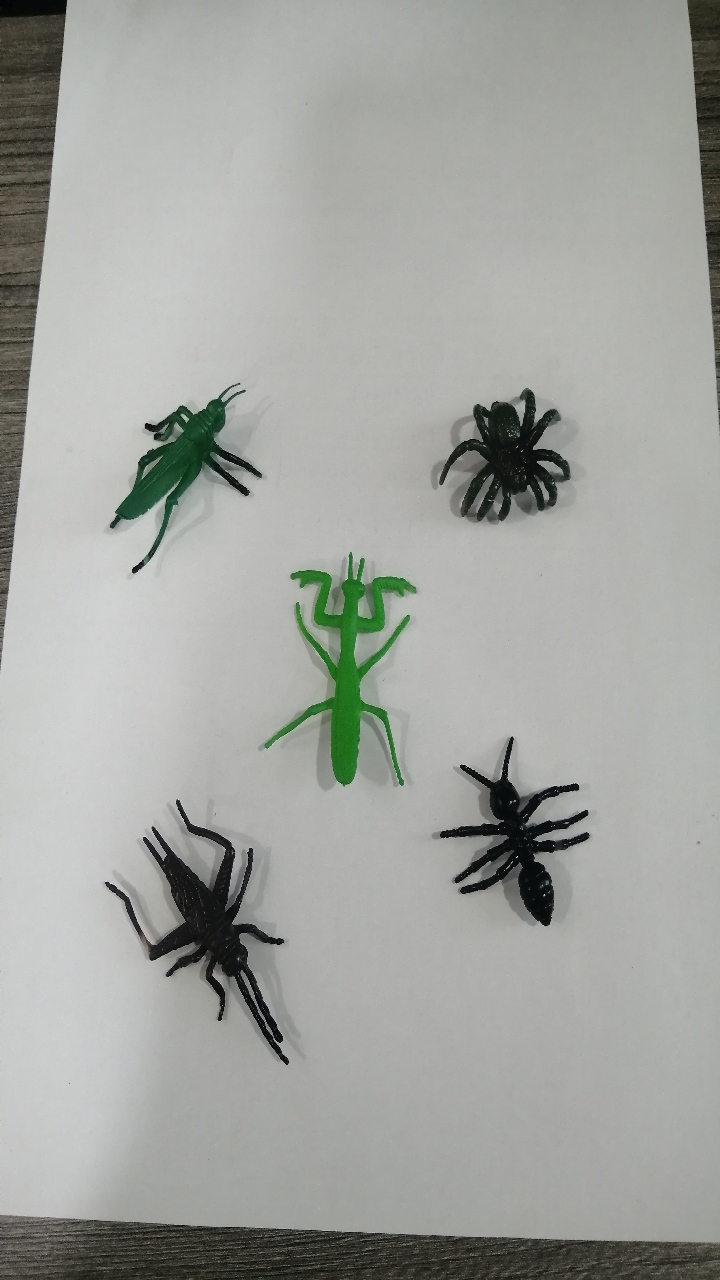intruso: (84, 762, 324, 1089), (255, 529, 428, 820), (75, 360, 269, 583), (414, 722, 597, 934), (424, 355, 583, 549)
